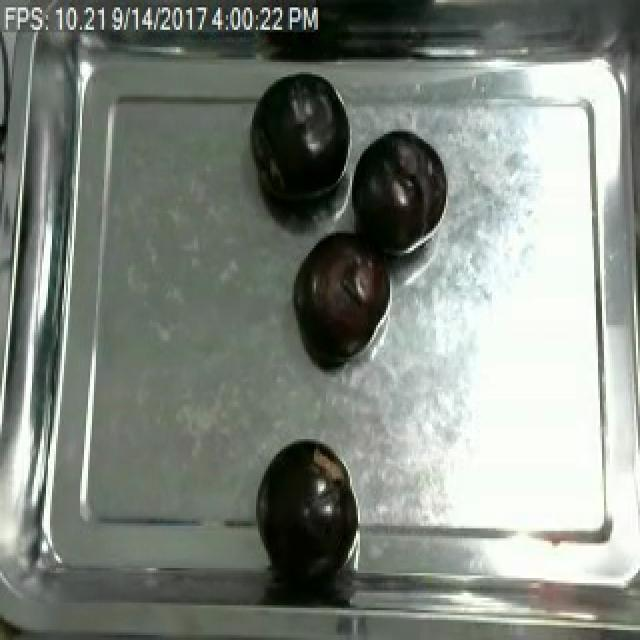Fruit: (244, 70, 354, 214), (248, 432, 358, 573), (286, 226, 390, 367), (348, 126, 450, 263)
